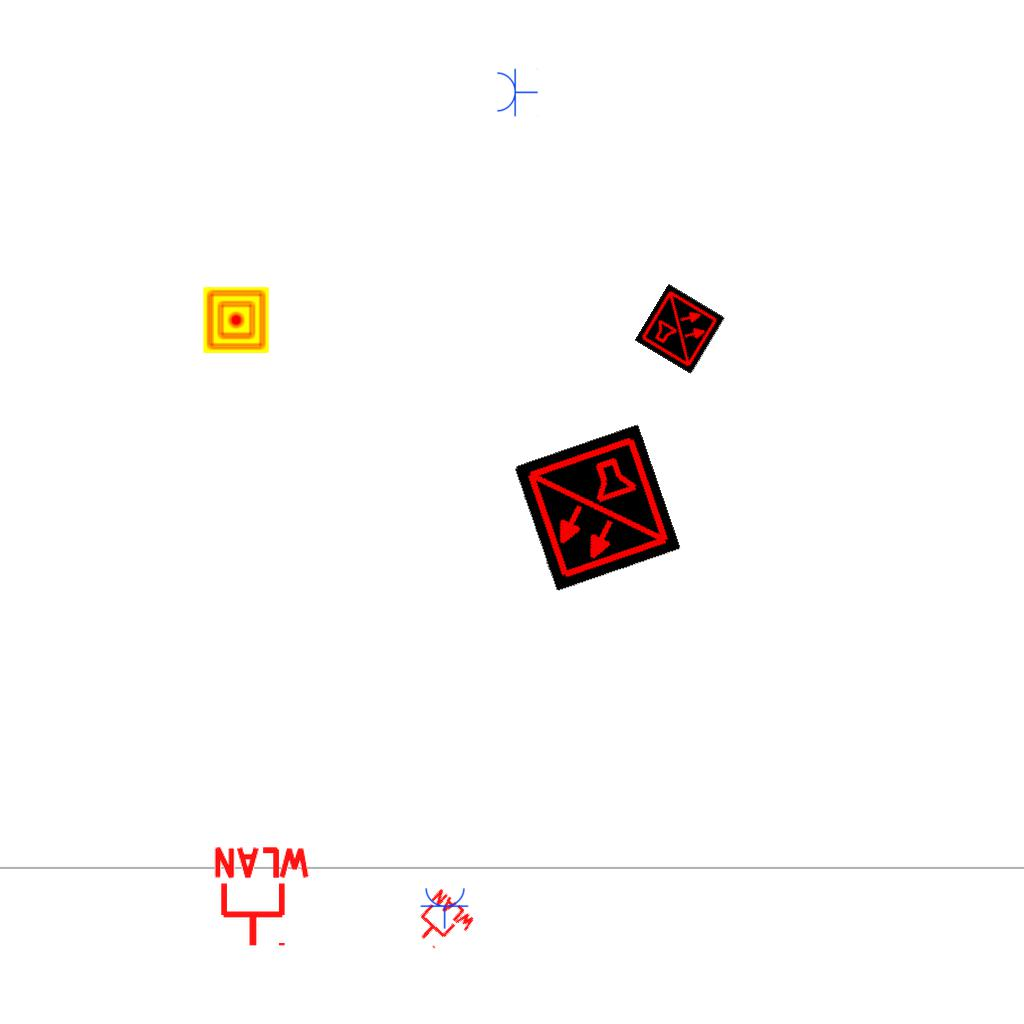NAM-Nichtautomatischer_Melder: (203, 287, 269, 353)
OKW_Multisensormelder_(Kombination_optischer_Rauch-Kahlenmonoxid_Waerme-Melder): (513, 424, 681, 592), (634, 283, 726, 375)
Schukosteckdose_einfach: (495, 67, 538, 117), (420, 886, 470, 929)
WLAN: (210, 845, 314, 950), (405, 886, 479, 960)
